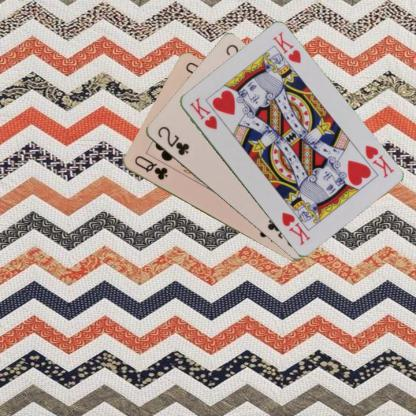2c: (154, 124, 191, 157)
Kh: (362, 142, 395, 180), (186, 94, 218, 130)
Qc: (131, 152, 169, 182)
